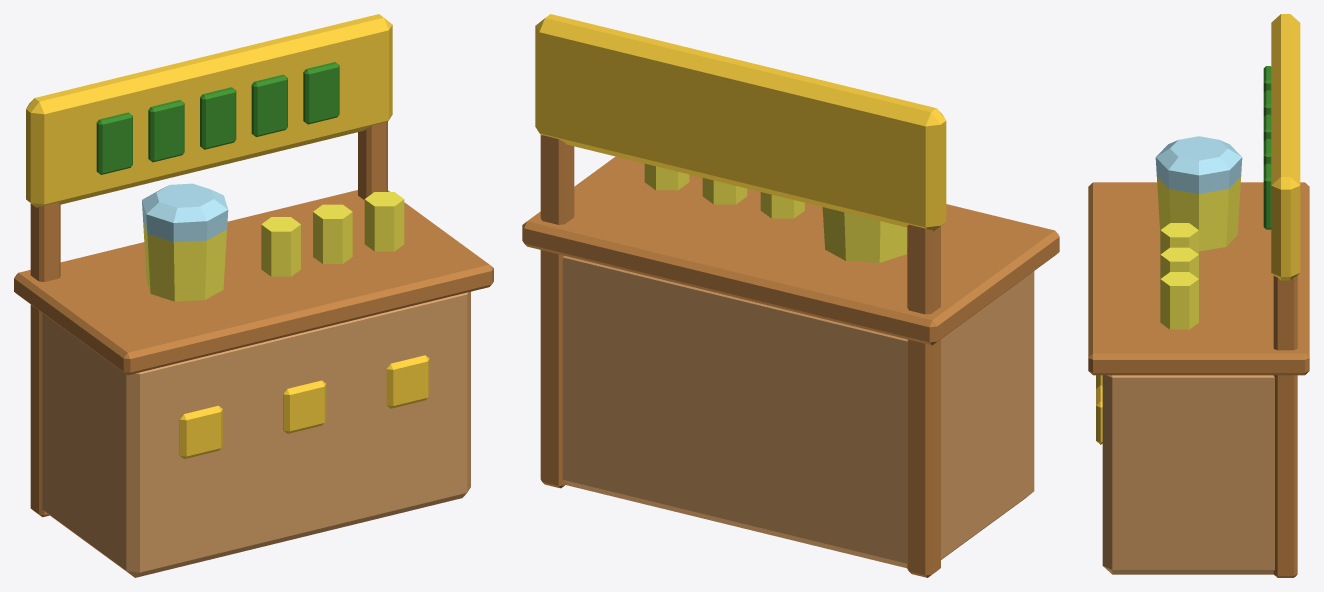
File: LemonadeStand.fbx
3 views of the same model, side by side, from view 1: azimuth 30°, elevation 25°; view 2: azimuth 150°, elevation 25°; view 3: azimuth 270°, elevation 25° (orthographic). The views are drawn at different scales.
Parts seen in each view (by area): view 1: LemonadeStand; view 2: LemonadeStand; view 3: LemonadeStand.
Boxes of the visible parts, box(x1,y1,x2,y2) form: LemonadeStand: box(14, 14, 493, 577); LemonadeStand: box(522, 14, 1059, 577); LemonadeStand: box(1088, 14, 1309, 577).
Size of the model in its own units: 4.3 by 4.6 by 2.3.
Materials: 1 (1 with a texture image).
